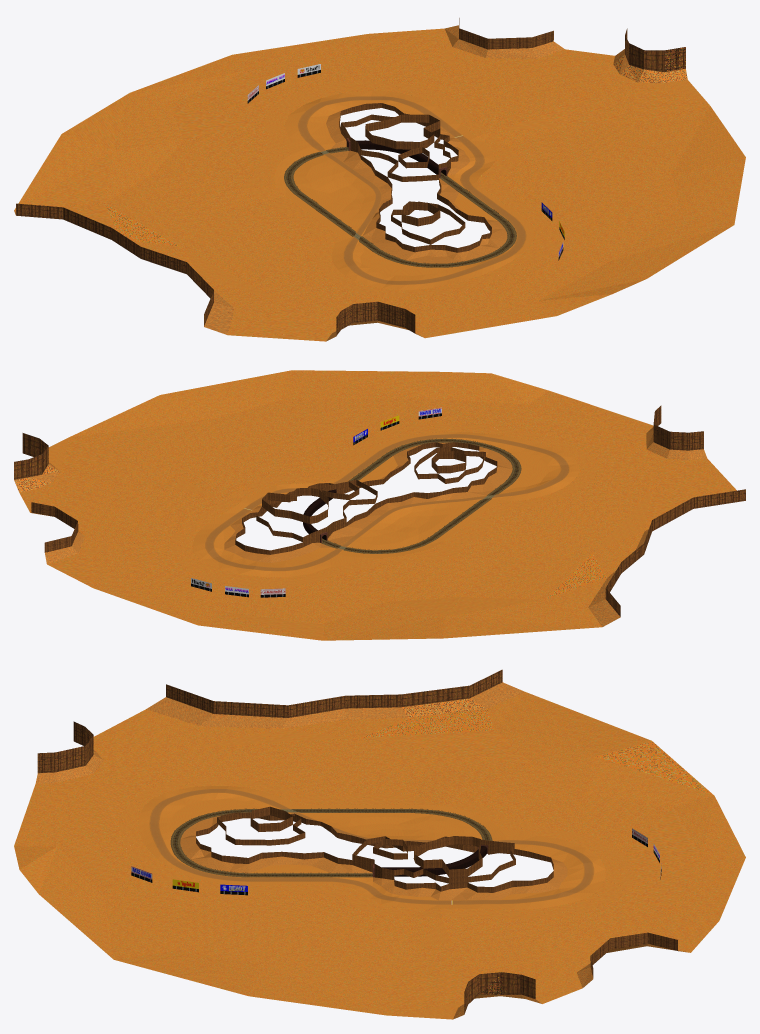
File: kalimari.fbx
3 renders of one model, top to bottom at view 1: azimuth 30°, elevation 25°; view 2: azimuth 150°, elevation 25°; view 3: azimuth 270°, elevation 25°, orthographic. The views are drawn at different scales.
Parts seen in each view (by area): view 1: MARIOKART64 (n64_scene.5).008, MARIOKART64 (n64_scene.5).010, MARIOKART64 (n64_scene.5).009, MARIOKART64 (n64_scene.5).011, MARIOKART64 (n64_scene.5).014, MARIOKART64 (n64_scene.5).015, MARIOKART64 (n64_scene.5).030; view 2: MARIOKART64 (n64_scene.5).008, MARIOKART64 (n64_scene.5).010, MARIOKART64 (n64_scene.5).009, MARIOKART64 (n64_scene.5).011, MARIOKART64 (n64_scene.5).014, MARIOKART64 (n64_scene.5).015; view 3: MARIOKART64 (n64_scene.5).008, MARIOKART64 (n64_scene.5).010, MARIOKART64 (n64_scene.5).009, MARIOKART64 (n64_scene.5).011, MARIOKART64 (n64_scene.5).014, MARIOKART64 (n64_scene.5).015, MARIOKART64 (n64_scene.5).030.
Boxes of the visible parts, x1,y1,x2,y2 form: MARIOKART64 (n64_scene.5).008: (14,28,745,341); MARIOKART64 (n64_scene.5).010: (16,18,685,335); MARIOKART64 (n64_scene.5).009: (14,25,687,341); MARIOKART64 (n64_scene.5).011: (297,96,526,284); MARIOKART64 (n64_scene.5).014: (285,147,515,266); MARIOKART64 (n64_scene.5).015: (284,147,516,267); MARIOKART64 (n64_scene.5).030: (347,140,446,175); MARIOKART64 (n64_scene.5).008: (19,370,736,640); MARIOKART64 (n64_scene.5).010: (14,405,745,616); MARIOKART64 (n64_scene.5).009: (14,427,706,626); MARIOKART64 (n64_scene.5).011: (205,434,569,571); MARIOKART64 (n64_scene.5).014: (322,439,520,553); MARIOKART64 (n64_scene.5).015: (321,438,521,553); MARIOKART64 (n64_scene.5).008: (14,692,745,1019); MARIOKART64 (n64_scene.5).010: (37,669,677,1014); MARIOKART64 (n64_scene.5).009: (35,682,688,1019); MARIOKART64 (n64_scene.5).011: (149,788,594,904); MARIOKART64 (n64_scene.5).014: (172,809,490,876); MARIOKART64 (n64_scene.5).015: (170,809,492,877); MARIOKART64 (n64_scene.5).030: (382,846,487,876).
Size of the model in its own units: 913900 by 40100 by 846200.
Materials: 25 (25 with a texture image).
